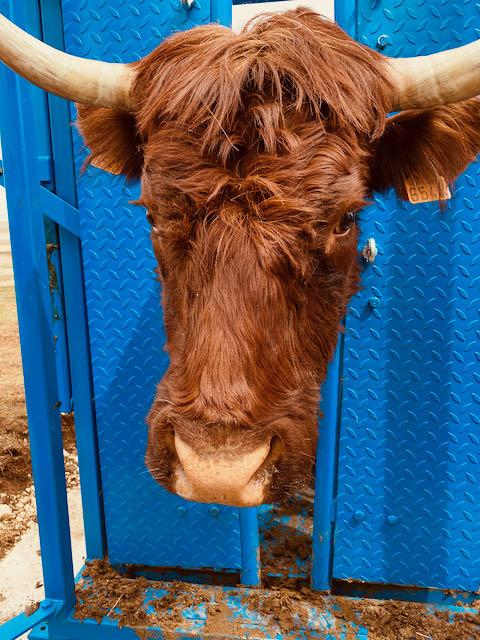muzzles: (135, 407, 296, 524)
